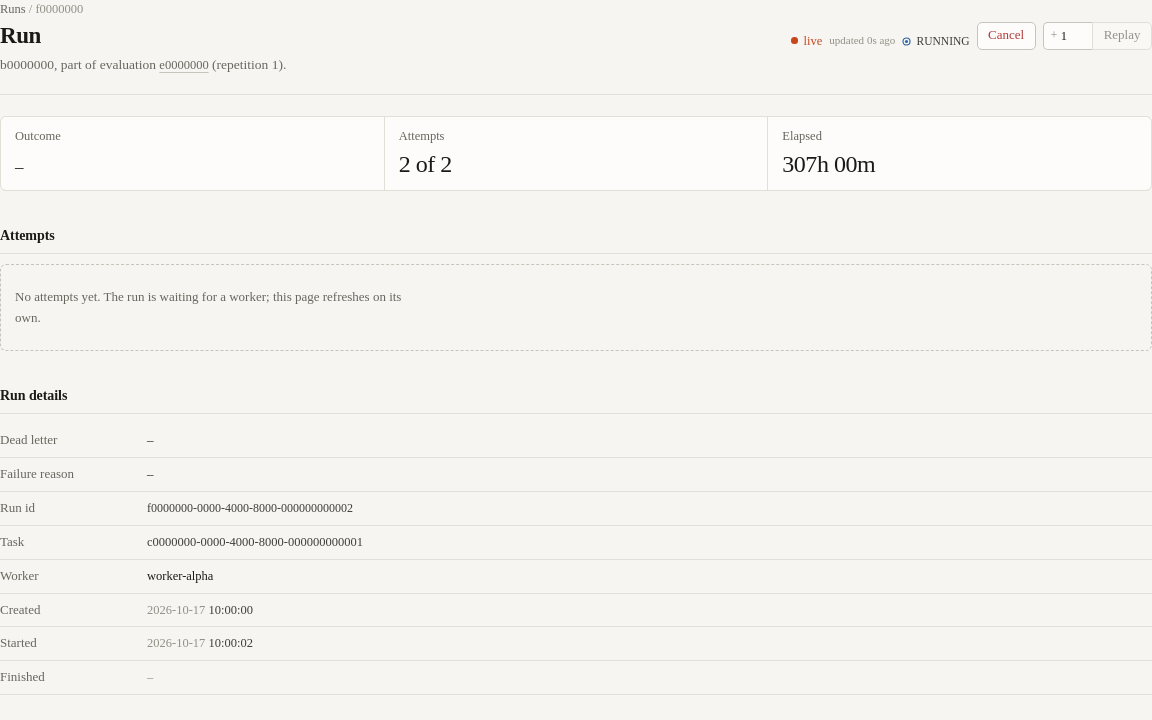
Run detail › explains a 403 on cancel
Click the button "Cancel" at coordinates (1006, 36), box [977, 22, 1036, 50]
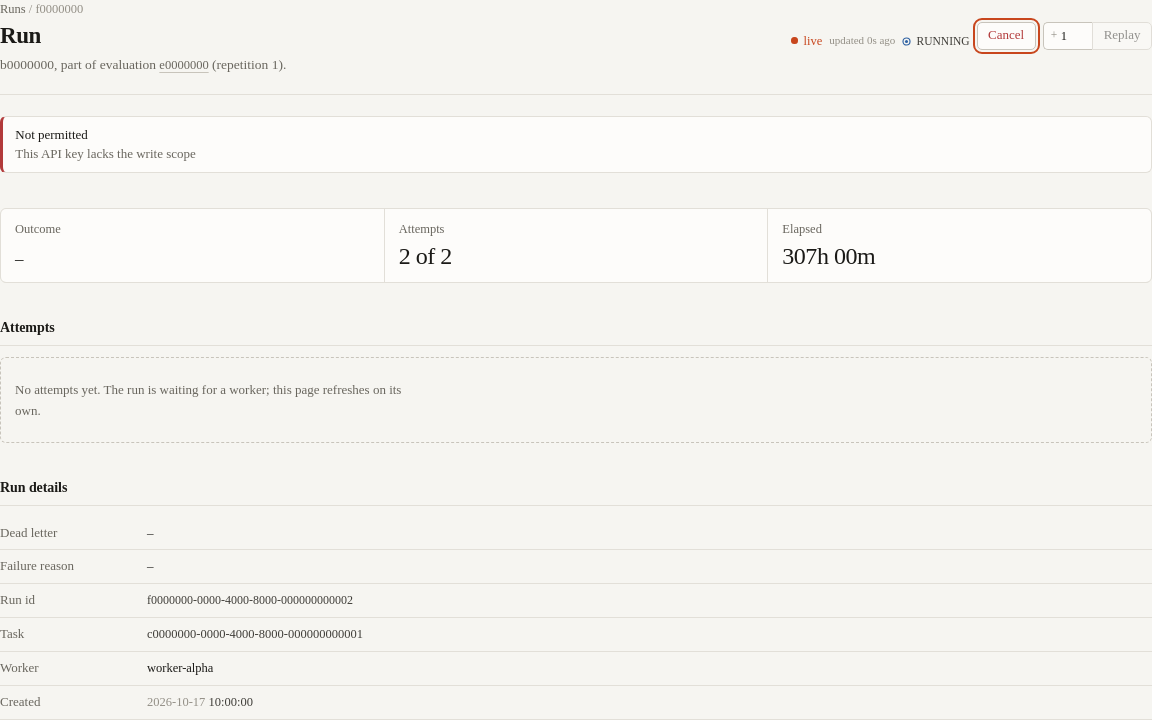
Result: the text "This API key lacks the write scope" is shown at [15, 146, 196, 160]
